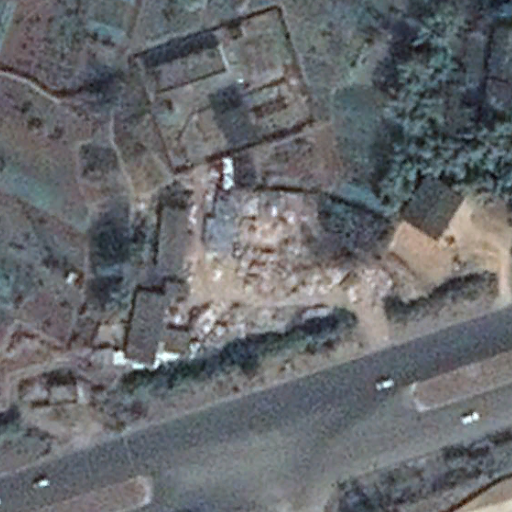msw: (171, 207, 406, 347)
